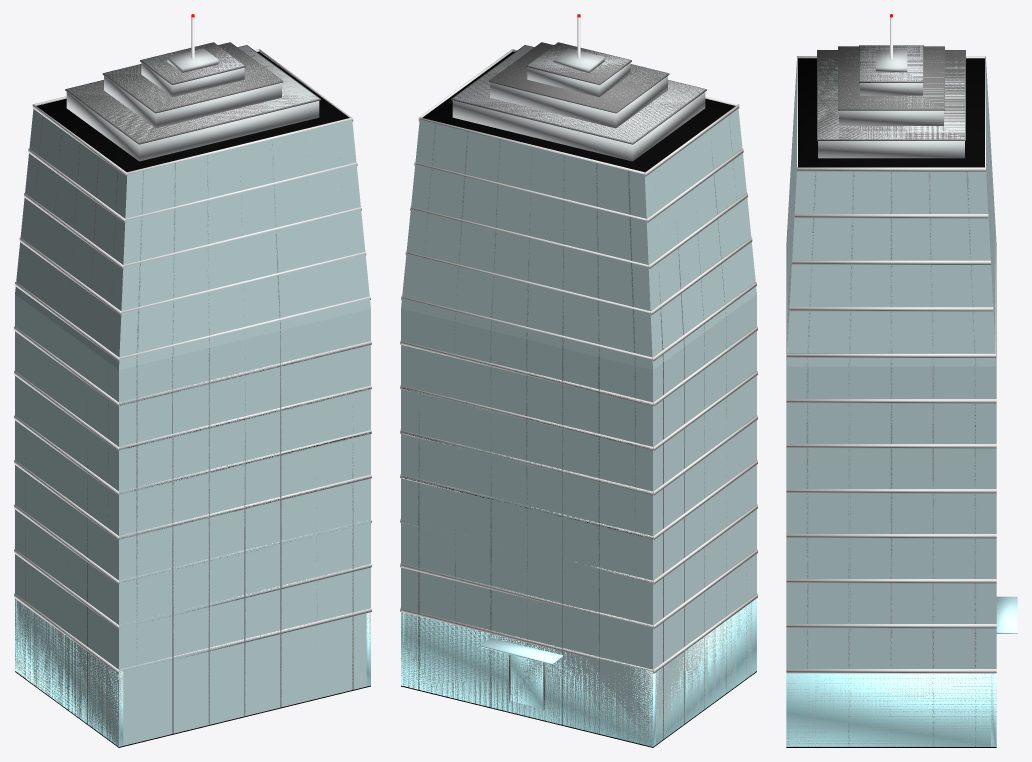
The model's file is Building_3_1.glb.
3 views of the same model, side by side, from view 1: azimuth 30°, elevation 25°; view 2: azimuth 150°, elevation 25°; view 3: azimuth 270°, elevation 25° (orthographic).
Visible parts, largest first — view 1: Main_Tower.Bot.Back, Main_Tower.Top.Back, Main_Tower.Bot.Left, Main_Tower.Top.Left, Crown.Step1, Lobby_Glass.Left, Crown.Step2, Crown.Edge1, Main_Tower.Roof, Crown.Edge2, Crown.Step3, Crown.Edge3 (+14 smaller); view 2: Main_Tower.Bot.Front, Main_Tower.Top.Front, Main_Tower.Bot.Left, Main_Tower.Top.Left, Lobby_Glass.Front, Crown.Step1, Lobby_Glass.Left, Main_Tower.Roof, Crown.Edge1, Crown.Edge2, Crown.Step2, Crown.Step3 (+15 smaller); view 3: Main_Tower.Bot.Right, Main_Tower.Top.Right, Lobby_Glass.Right, Crown.Step1, Main_Tower.Roof, Crown.Edge1, Crown.Edge2, Crown.Step3, Crown.Step2, Crown.Edge3, Main_Tower.Top.Back, Main_Tower.Top.Front (+15 smaller).
Part boxes in pixels (x1,y1,x2,y2): Main_Tower.Bot.Back: [119, 308, 370, 745]; Main_Tower.Top.Back: [119, 120, 370, 369]; Main_Tower.Bot.Left: [15, 294, 118, 745]; Main_Tower.Top.Left: [15, 109, 126, 369]; Crown.Step1: [66, 45, 319, 161]; Lobby_Glass.Left: [15, 599, 123, 746]; Crown.Step2: [104, 45, 281, 128]; Crown.Edge1: [65, 45, 320, 144]; Main_Tower.Roof: [36, 51, 349, 172]; Crown.Edge2: [102, 42, 283, 113]; Crown.Step3: [141, 45, 244, 97]; Crown.Edge3: [140, 42, 245, 84]; Main_Tower.Bot.Front: [401, 308, 652, 746]; Main_Tower.Top.Front: [401, 120, 652, 369]; Main_Tower.Bot.Left: [653, 294, 756, 742]; Main_Tower.Top.Left: [645, 109, 756, 369]; Lobby_Glass.Front: [401, 612, 655, 746]; Crown.Step1: [452, 45, 705, 161]; Lobby_Glass.Left: [650, 598, 756, 746]; Main_Tower.Roof: [422, 51, 735, 172]; Crown.Edge1: [451, 45, 706, 144]; Crown.Edge2: [488, 42, 669, 113]; Crown.Step2: [490, 64, 667, 128]; Crown.Step3: [527, 44, 630, 97]; Main_Tower.Bot.Right: [786, 366, 996, 746]; Main_Tower.Top.Right: [786, 171, 996, 366]; Lobby_Glass.Right: [786, 673, 996, 746]; Crown.Step1: [818, 52, 964, 158]; Main_Tower.Roof: [798, 58, 984, 167]; Crown.Edge1: [817, 50, 965, 140]; Crown.Edge2: [838, 46, 944, 110]; Crown.Step3: [860, 45, 922, 95]; Crown.Step2: [839, 47, 943, 125]; Crown.Edge3: [859, 45, 923, 82]; Main_Tower.Top.Back: [786, 61, 796, 365]; Main_Tower.Top.Front: [986, 61, 996, 365].
Bounding box in the file's own units: 2.82 × 7.06 × 2.2.
